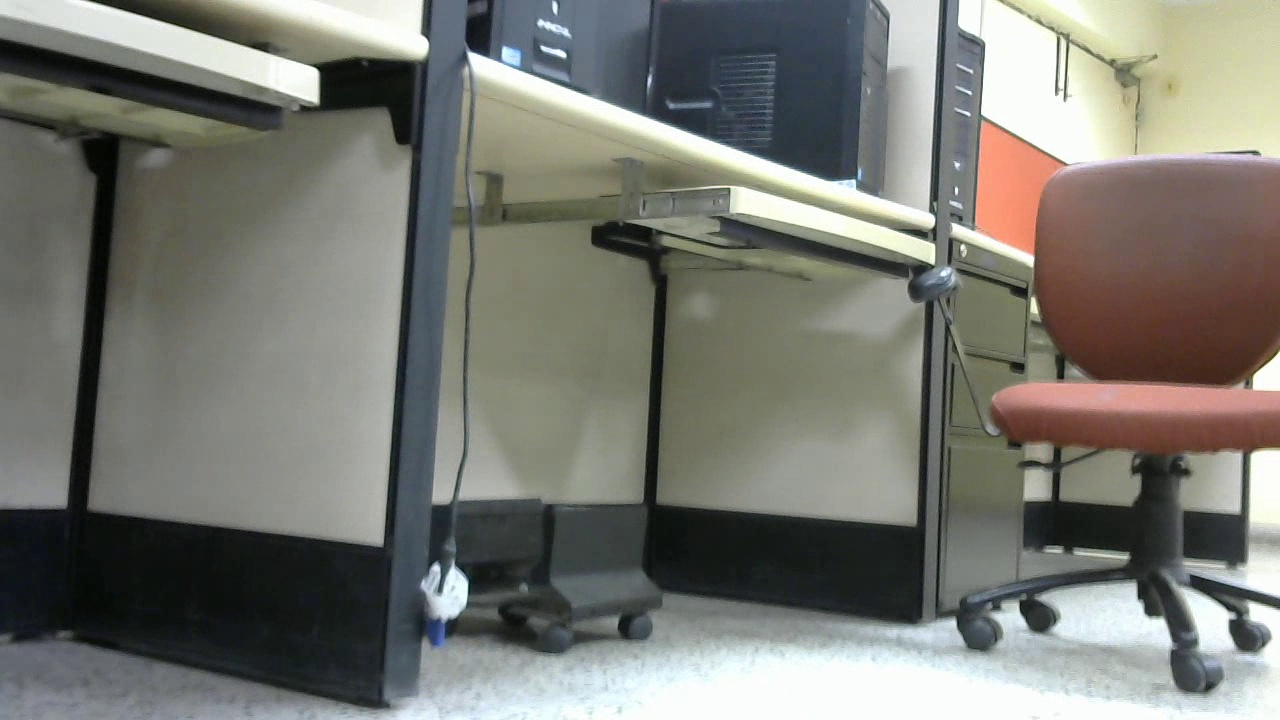chair: (901, 148, 1280, 698)
